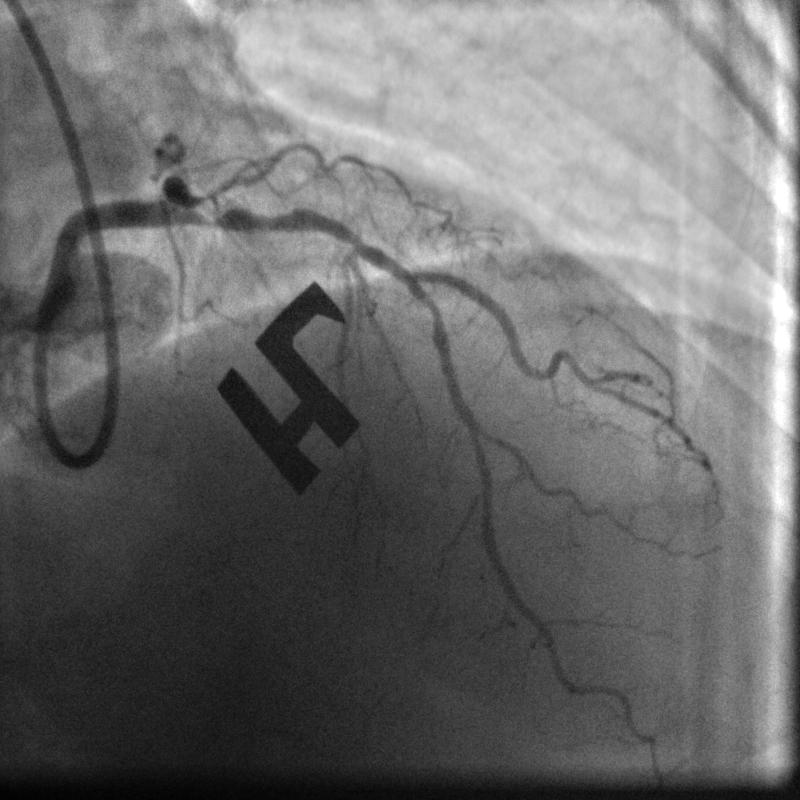Stenosis: (194, 194, 299, 229)
